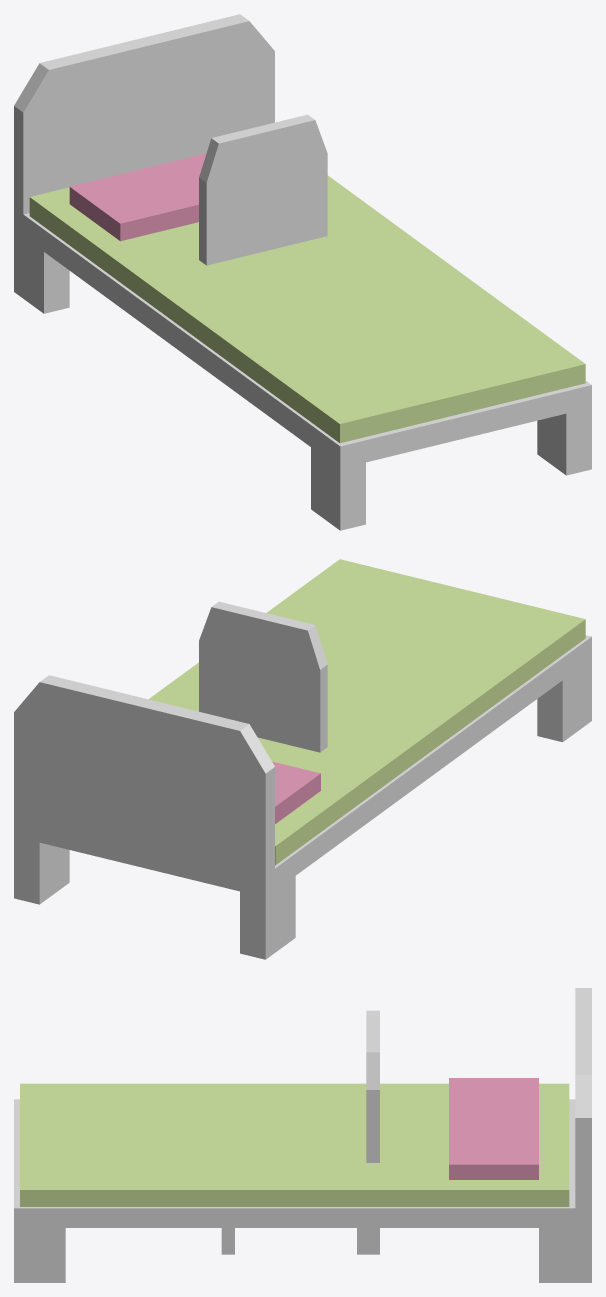
Rendered from Chair.fbx.
3 views of the same model, one above another, from view 1: azimuth 30°, elevation 25°; view 2: azimuth 150°, elevation 25°; view 3: azimuth 270°, elevation 25° (orthographic). The views are drawn at different scales.
Parts seen in each view (by area): view 1: Cube, Cube.001; view 2: Cube, Cube.001; view 3: Cube, Cube.001.
Part boxes in pixels (x1,y1,x2,y2): Cube: (14,14,591,530); Cube.001: (199,114,406,324); Cube: (14,559,591,959); Cube.001: (199,601,386,752); Cube: (14,988,591,1282); Cube.001: (221,1010,379,1254).
Size of the model in its own units: 356 by 301 by 800.
